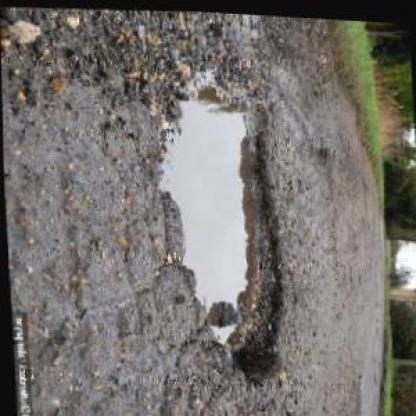pothole: (144, 44, 293, 387)
